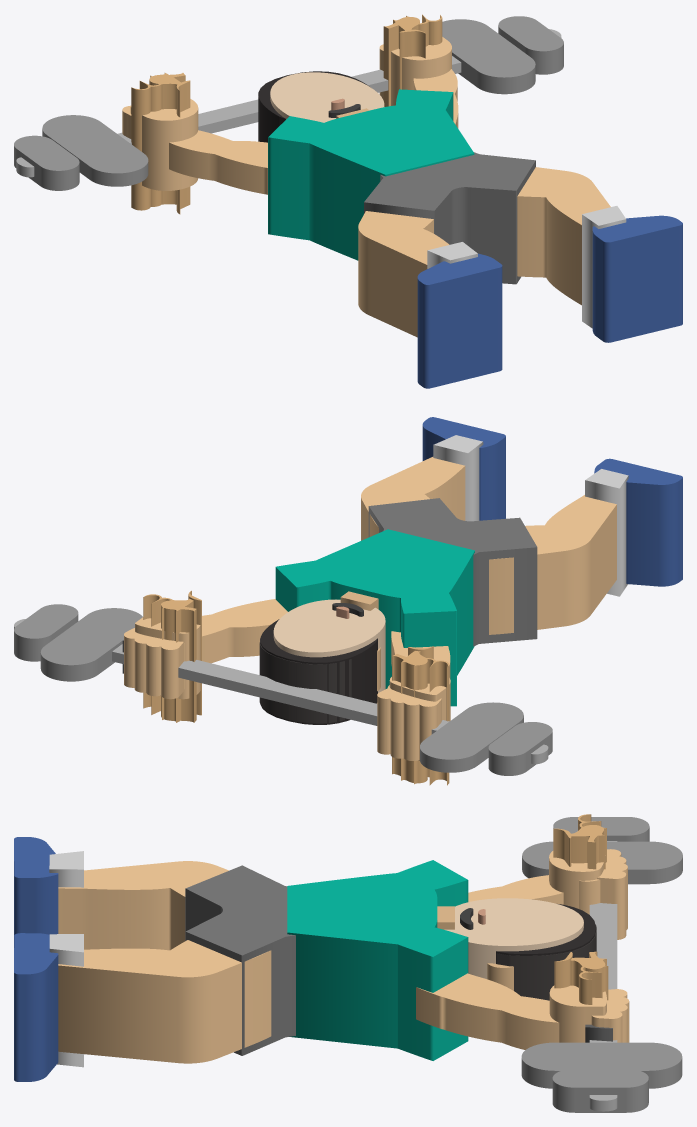
Rendered from emoji_u1f3cb_1f3fb_200d_2642.glb.
3 views of the same model, one above another, from view 1: azimuth 30°, elevation 25°; view 2: azimuth 150°, elevation 25°; view 3: azimuth 270°, elevation 25° (orthographic). The views are drawn at different scales.
Parts seen in each view (by area): view 1: emoji_u1f3cb_1f3fb_200d_2642; view 2: emoji_u1f3cb_1f3fb_200d_2642; view 3: emoji_u1f3cb_1f3fb_200d_2642.
Boxes of the visible parts, x1,y1,x2,y2 form: emoji_u1f3cb_1f3fb_200d_2642: (14, 14, 682, 388); emoji_u1f3cb_1f3fb_200d_2642: (14, 417, 682, 785); emoji_u1f3cb_1f3fb_200d_2642: (14, 814, 682, 1112).
Bounding box in the file's own units: 0.0338 × 0.0074 × 0.0337.
